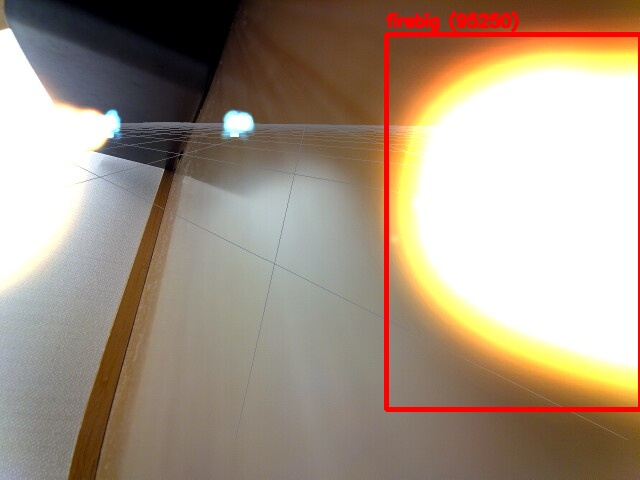firebig: (386, 34, 640, 409)
